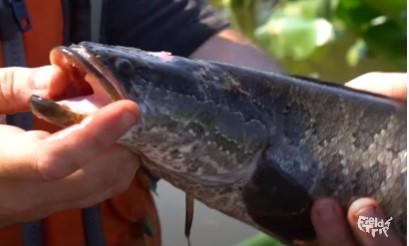Snakehead: (28, 40, 408, 243)
